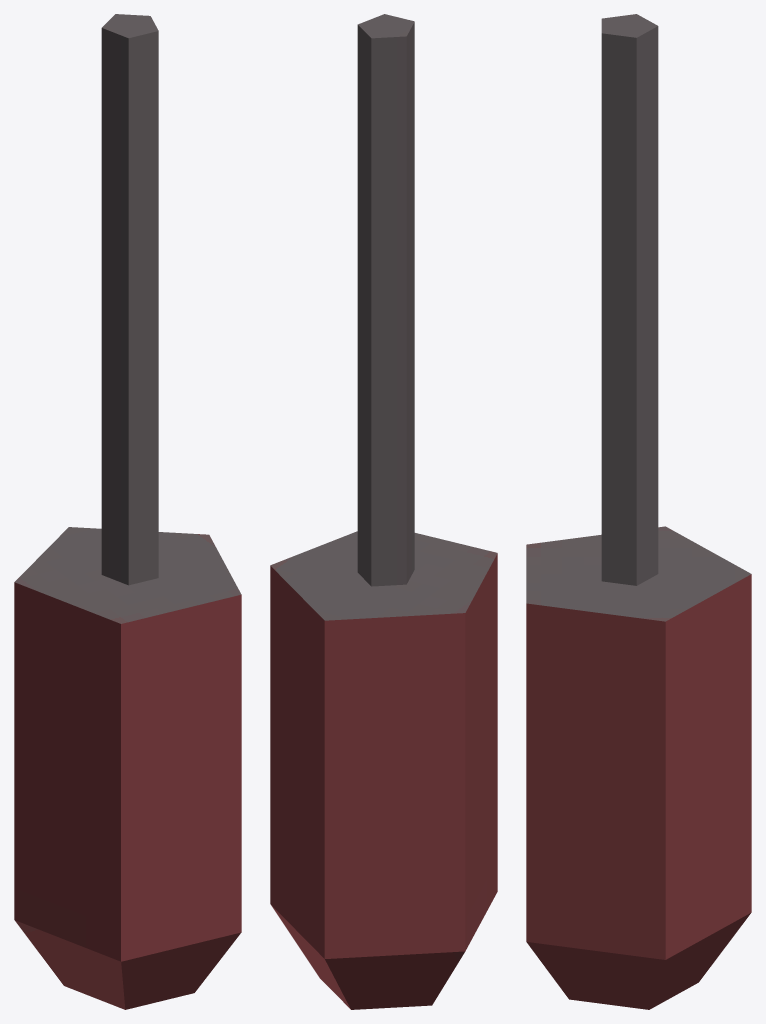
The model's file is screwdriver.fbx.
3 views of the same model, side by side, from view 1: azimuth 30°, elevation 25°; view 2: azimuth 150°, elevation 25°; view 3: azimuth 270°, elevation 25° (orthographic).
Visible parts, largest first — view 1: Cylinder; view 2: Cylinder; view 3: Cylinder.
Part boxes in pixels (x1,y1,x2,y2): Cylinder: [14, 14, 241, 1009]; Cylinder: [270, 14, 497, 1009]; Cylinder: [526, 14, 751, 1009].
Size of the model in its own units: 5 by 23.41 by 5.
Materials: 1 (1 with a texture image).
